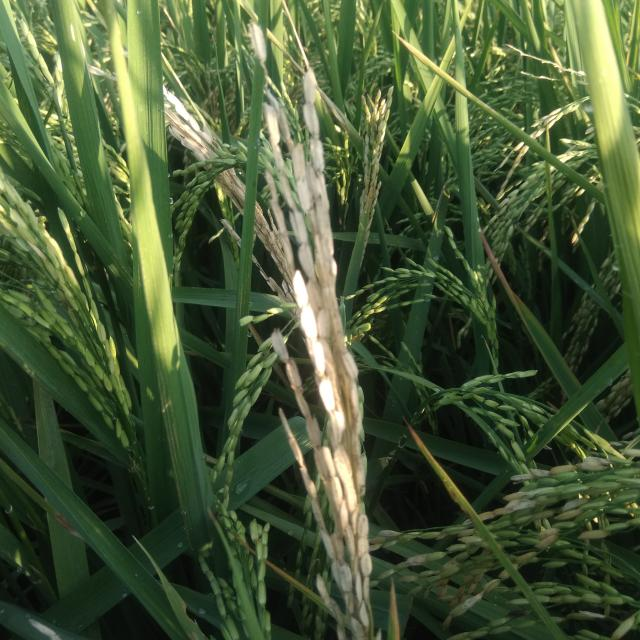Brown spot: (479, 228, 519, 305), (400, 412, 438, 472), (381, 577, 404, 640), (268, 560, 298, 586)
insects: (448, 488, 458, 501), (463, 509, 473, 521), (250, 179, 257, 189)
